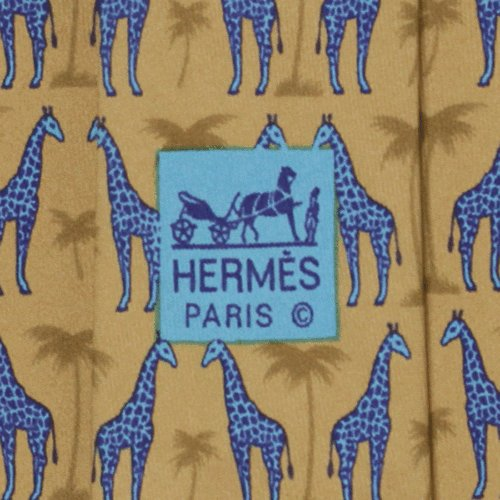HERMES: (158, 156, 338, 340)
